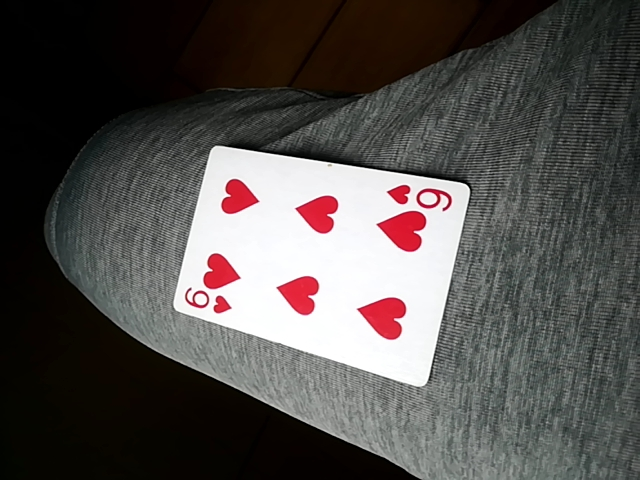hx 6: (174, 145, 469, 389)
